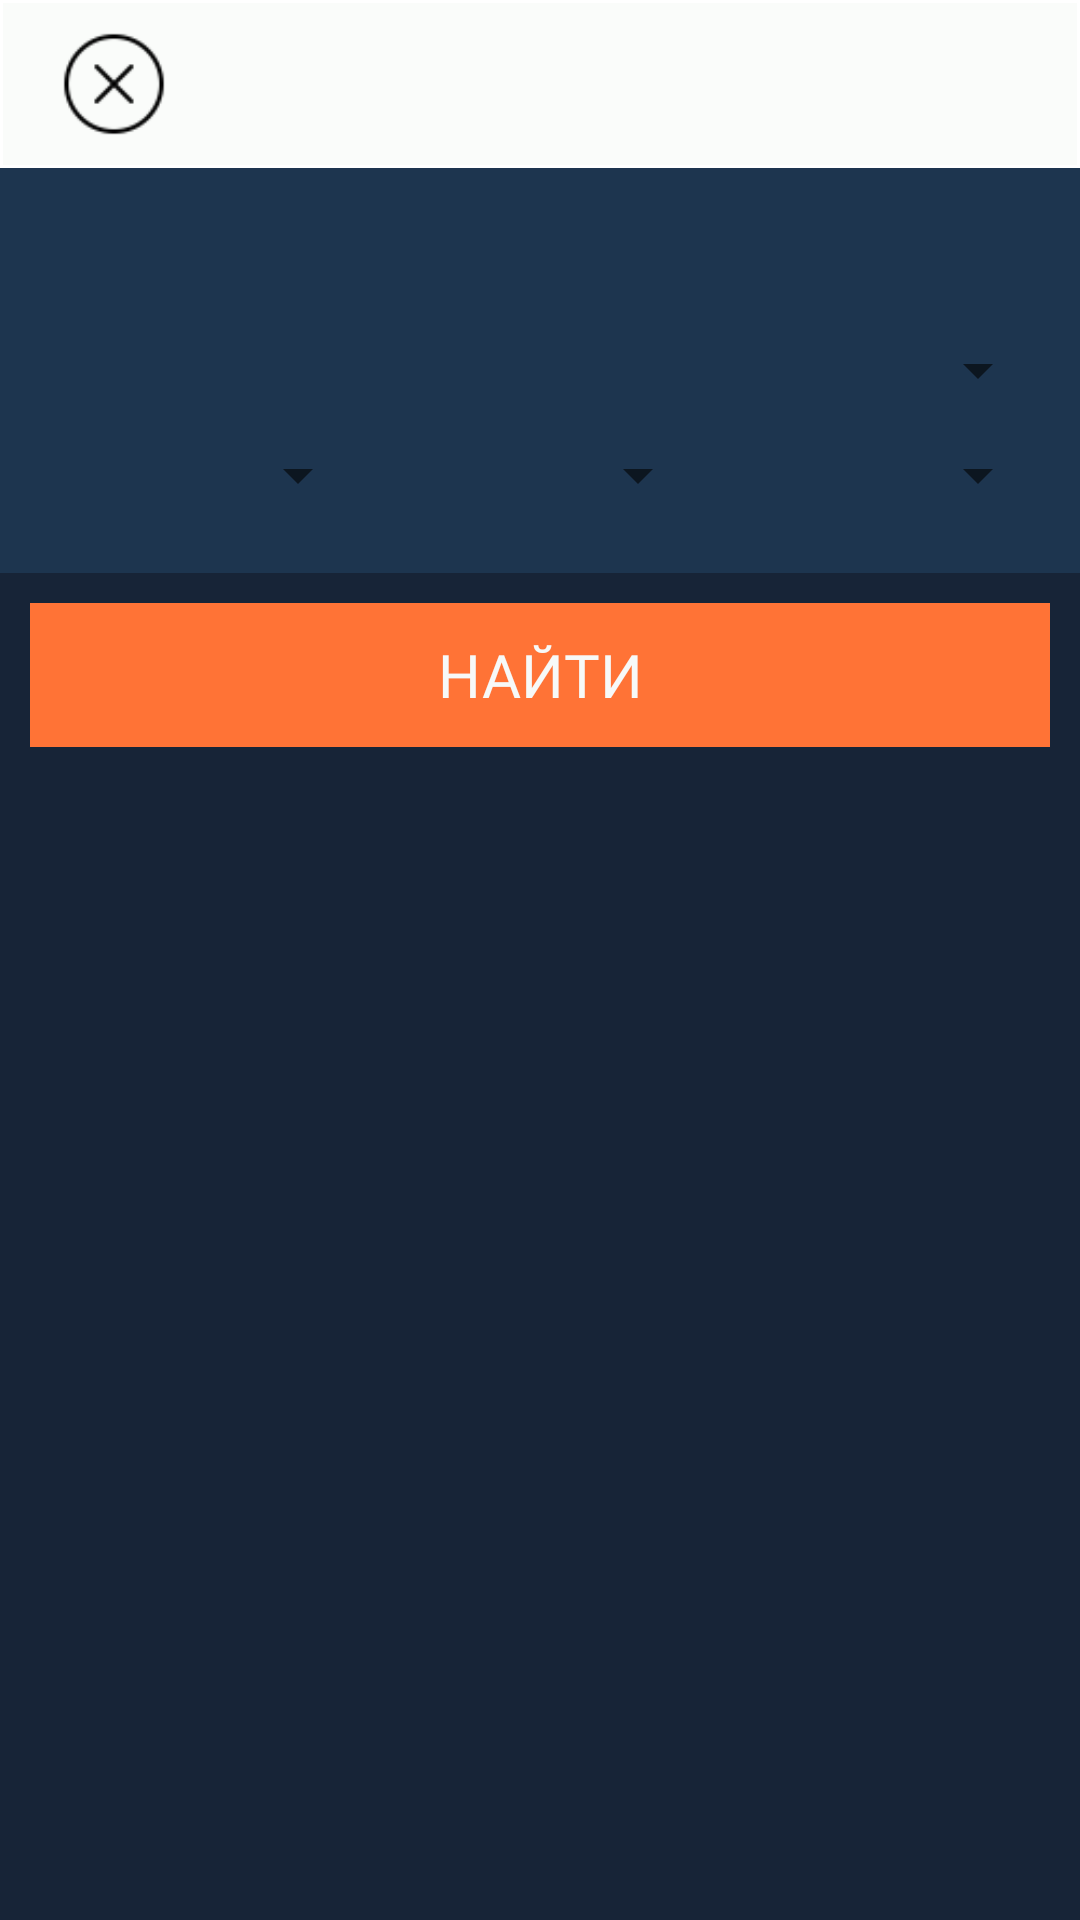

Icons on this 1080×1920 Android screen, each with the point to tap as point (x, y):
searchwallet close: point (114, 84)
